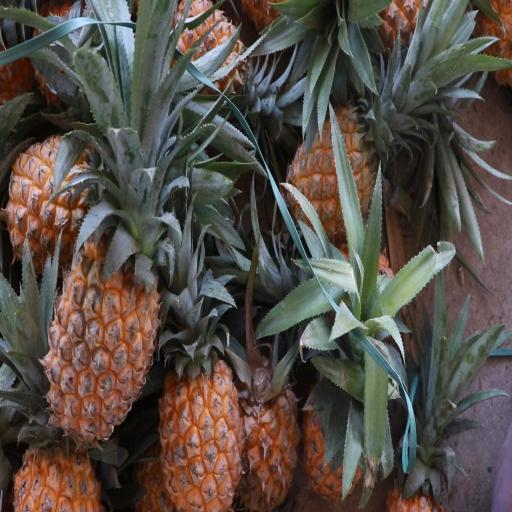Pineapple - v8 v1: (40, 206, 162, 448), (2, 125, 142, 274), (281, 102, 389, 256), (157, 357, 246, 512), (12, 366, 105, 512), (238, 348, 302, 511)
